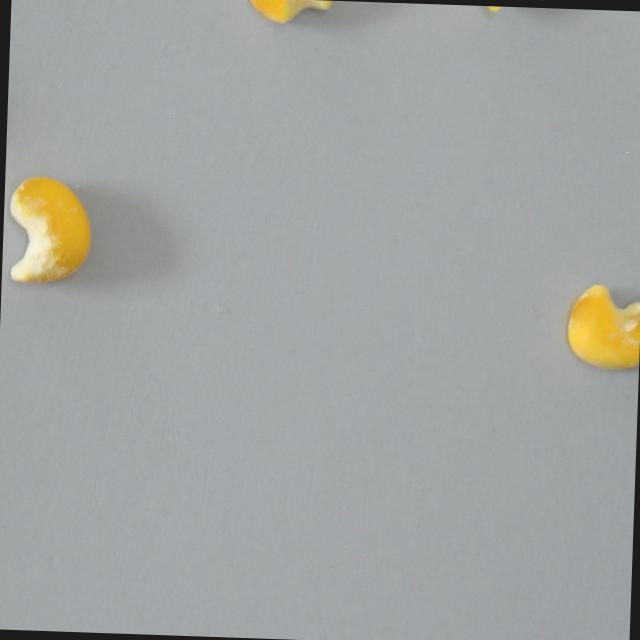no_canjicado: (245, 0, 333, 25)
pelicula: (5, 174, 97, 286), (564, 281, 640, 371)
